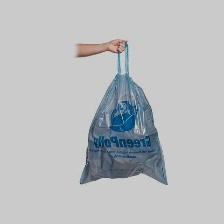plastic_bag: (69, 37, 175, 193)
